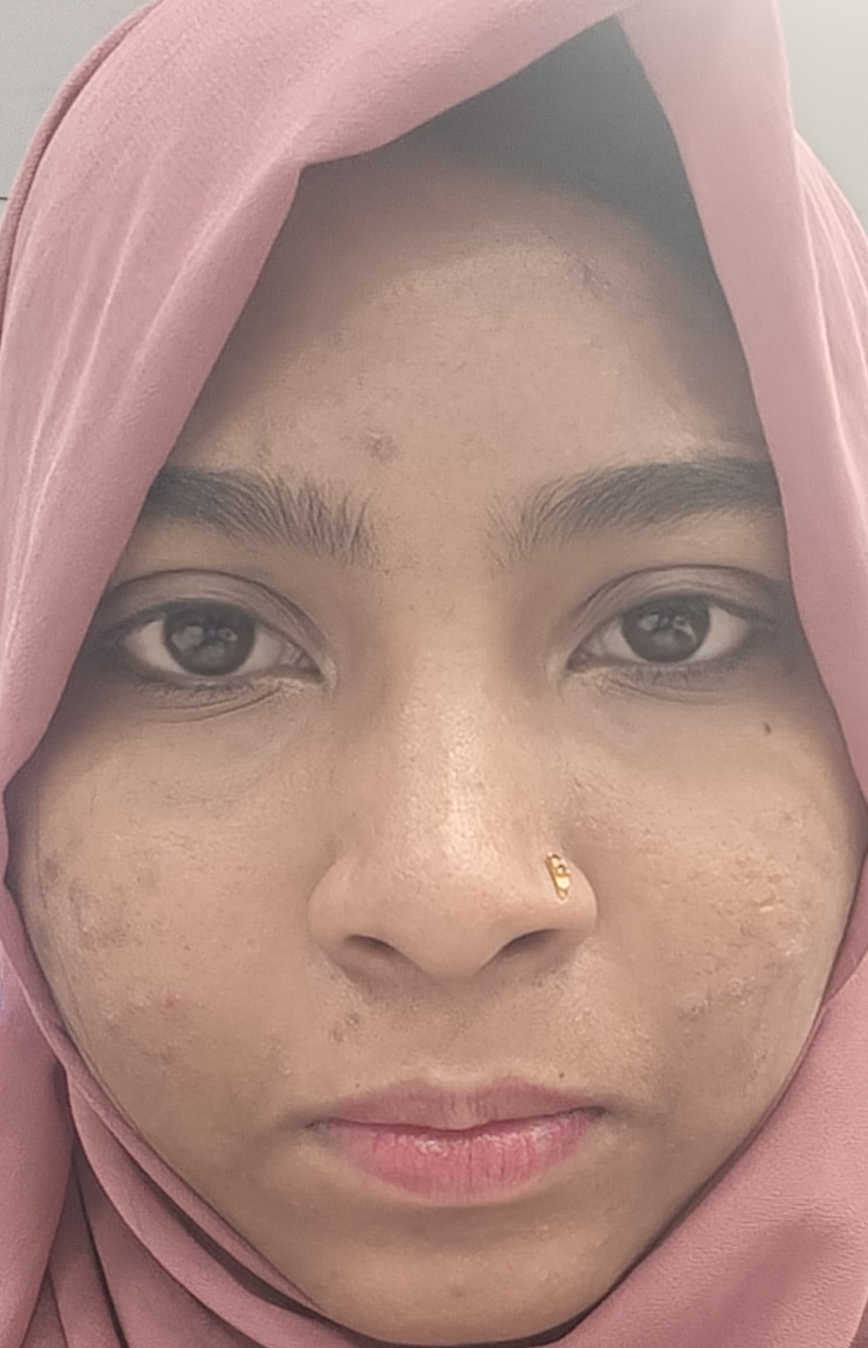closed_comedone: (423, 1262, 507, 1318)
papule: (125, 980, 214, 1040), (338, 406, 403, 488), (25, 833, 96, 900), (667, 978, 723, 1036)
